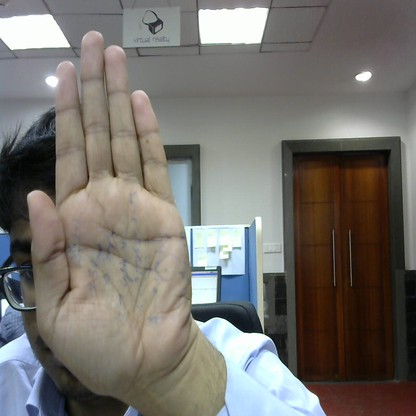b: (26, 35, 200, 399)
